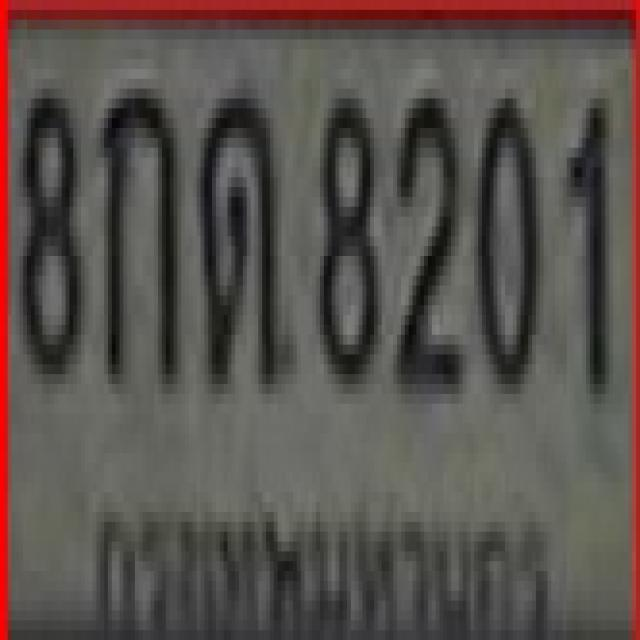license_plate: (11, 21, 629, 640)
